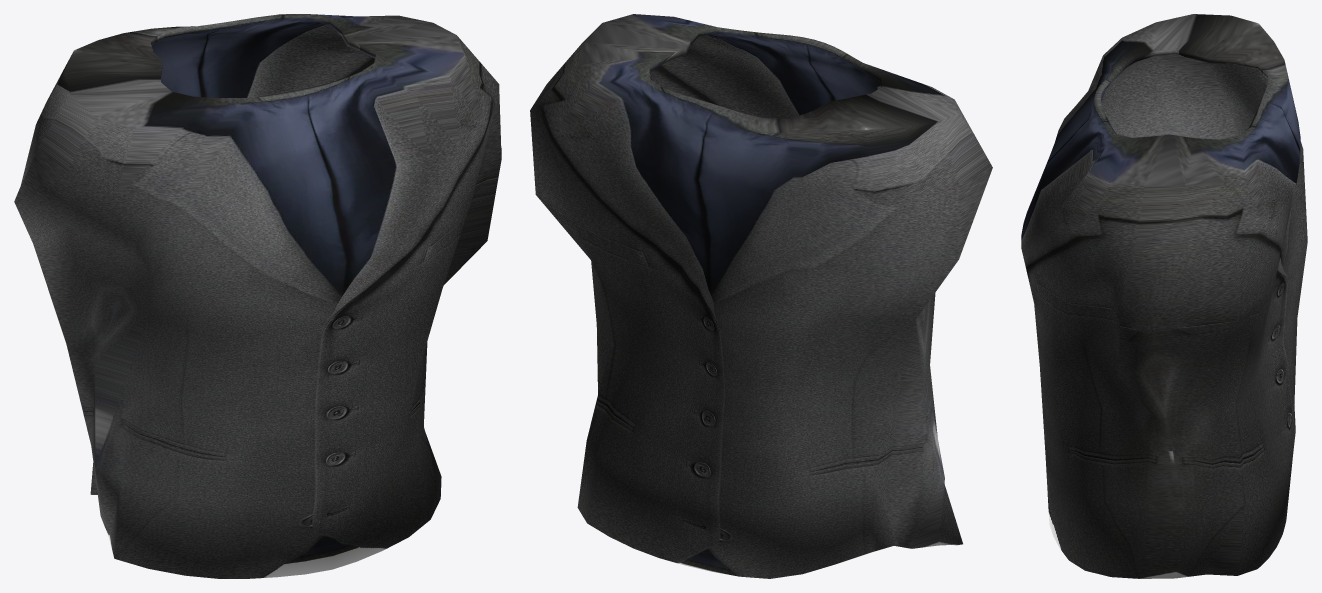
Rendered from 97d8a526-fe91-4b75-9339-e5fda9fd3ed4.glb.
The picture shows the model from 3 angles, left to right: view 1: azimuth 30°, elevation 25°; view 2: azimuth 150°, elevation 25°; view 3: azimuth 270°, elevation 25°; orthographic projection. The views are drawn at different scales.
Parts seen in each view (by area): view 1: garment; view 2: garment; view 3: garment.
Part boxes in pixels (<box>): garment: <box>14,14,501,578</box>; garment: <box>530,14,992,578</box>; garment: <box>1021,14,1307,578</box>.
Size of the model in its own units: 0.5504 by 0.5555 by 0.3312.
Materials: 1 (1 with a texture image).
